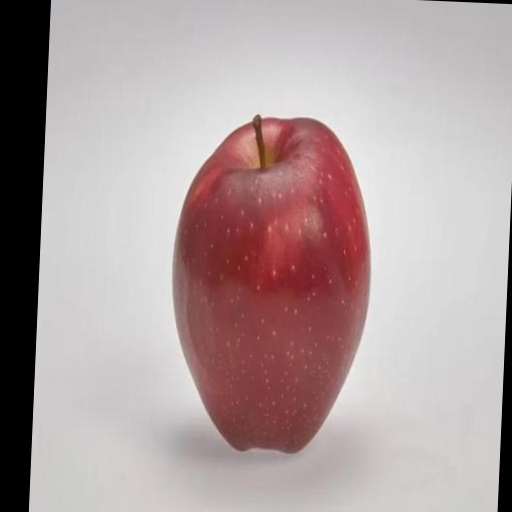fruit: (174, 116, 370, 452)
